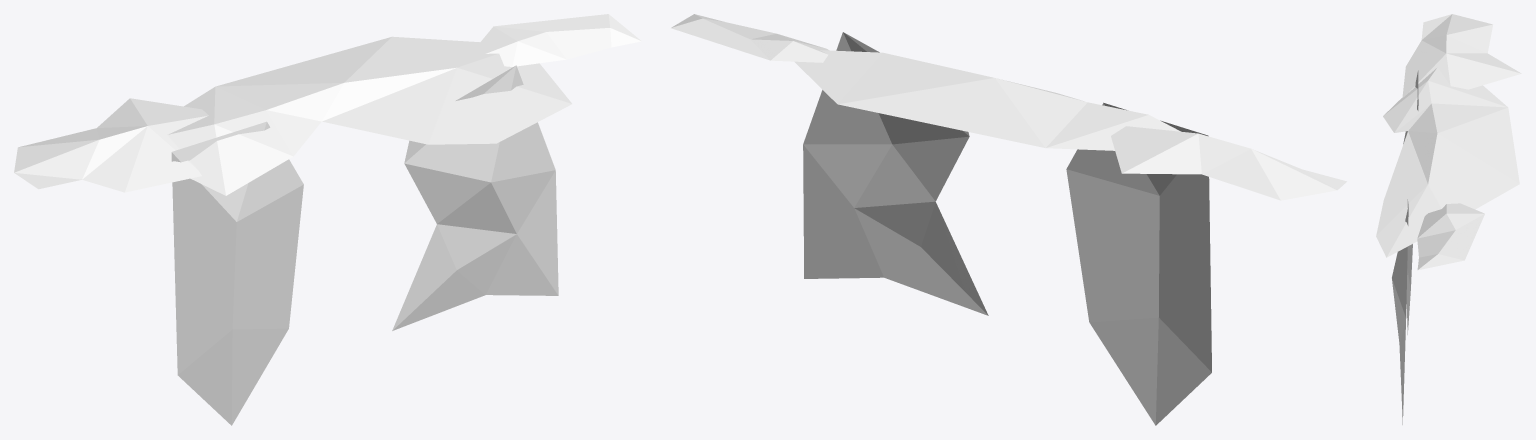
Rendered from SM_Env_Ivy_Draped_01.glb.
3 views of the same model, side by side, from view 1: azimuth 30°, elevation 25°; view 2: azimuth 150°, elevation 25°; view 3: azimuth 270°, elevation 25° (orthographic). The views are drawn at different scales.
Visible parts, largest first — view 1: SM_Env_Ivy_Draped_01; view 2: SM_Env_Ivy_Draped_01; view 3: SM_Env_Ivy_Draped_01.
Part boxes in pixels (x1,y1,x2,y2): SM_Env_Ivy_Draped_01: (14,14,641,425); SM_Env_Ivy_Draped_01: (671,14,1346,425); SM_Env_Ivy_Draped_01: (1376,14,1521,424).
Bounding box in the file's own units: 3.18 × 1.49 × 0.7691.
Materials: 1 (1 with a texture image).
